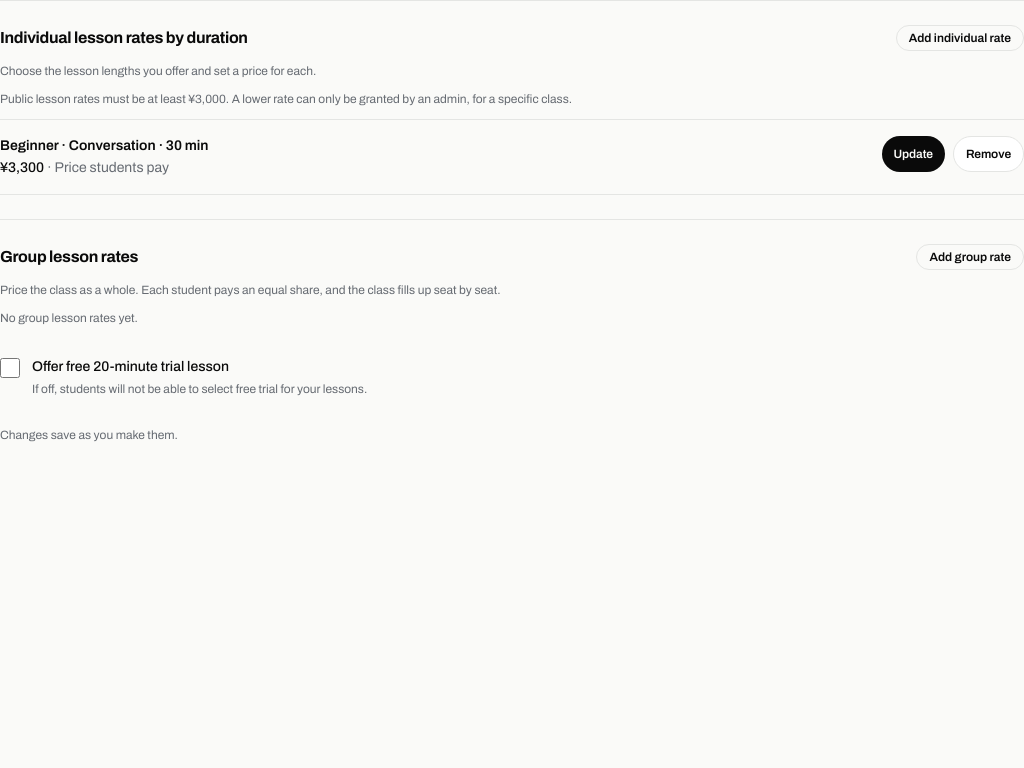
Test case: TeacherLessonOfferingsForm — editing › opens the dialog on the class you asked to change
Click the button "Update": (913, 154) [882, 136, 945, 172]
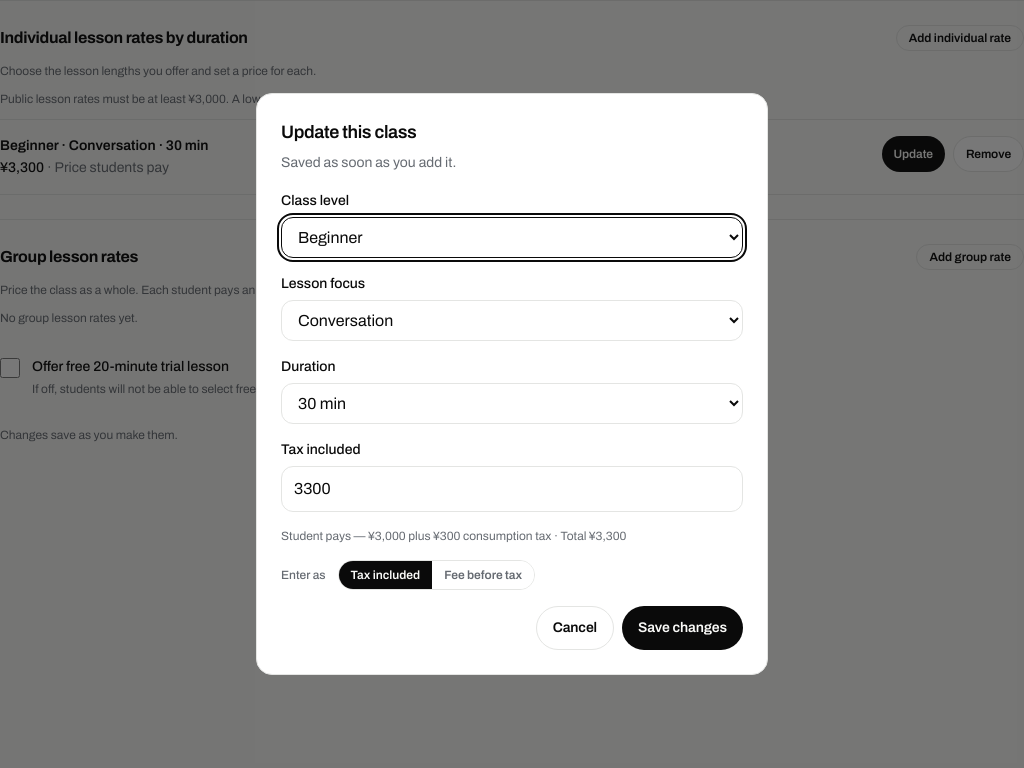
Result: the heading "Update this class" is shown at [281, 122, 416, 142]
Result: the field showing "3300" is shown at [281, 466, 743, 512]
